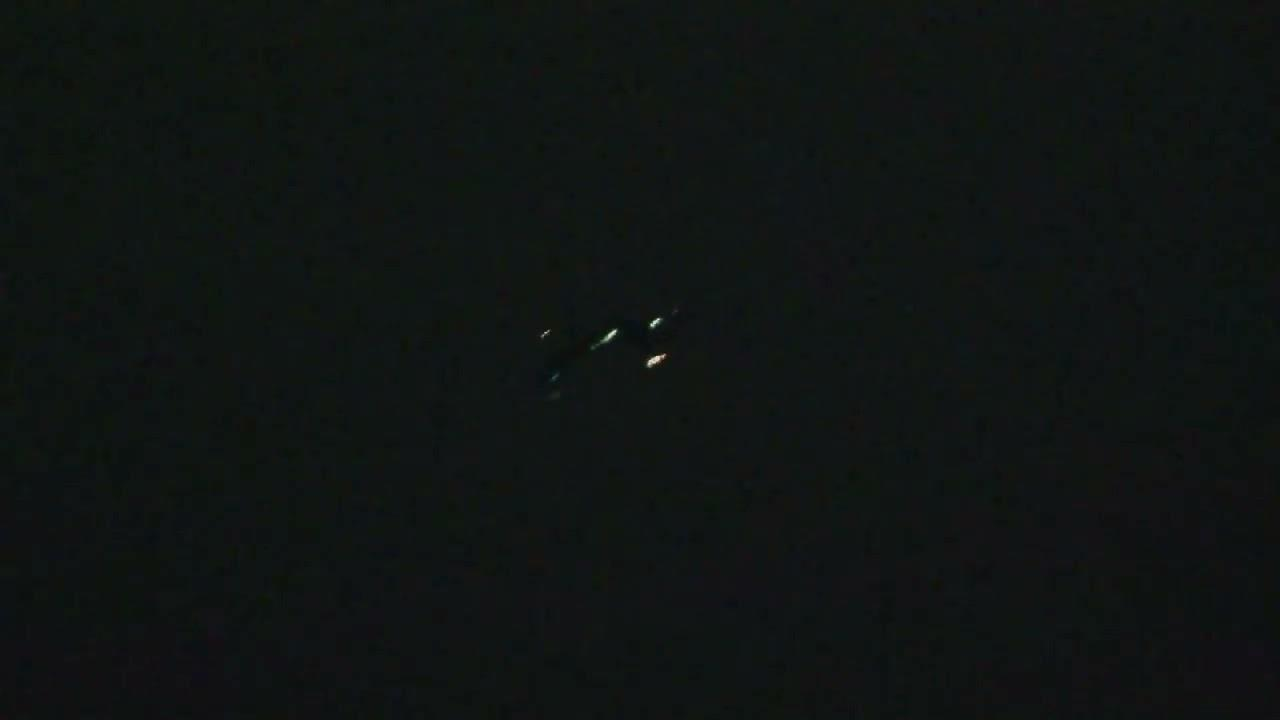Plane: (569, 289, 713, 424)
